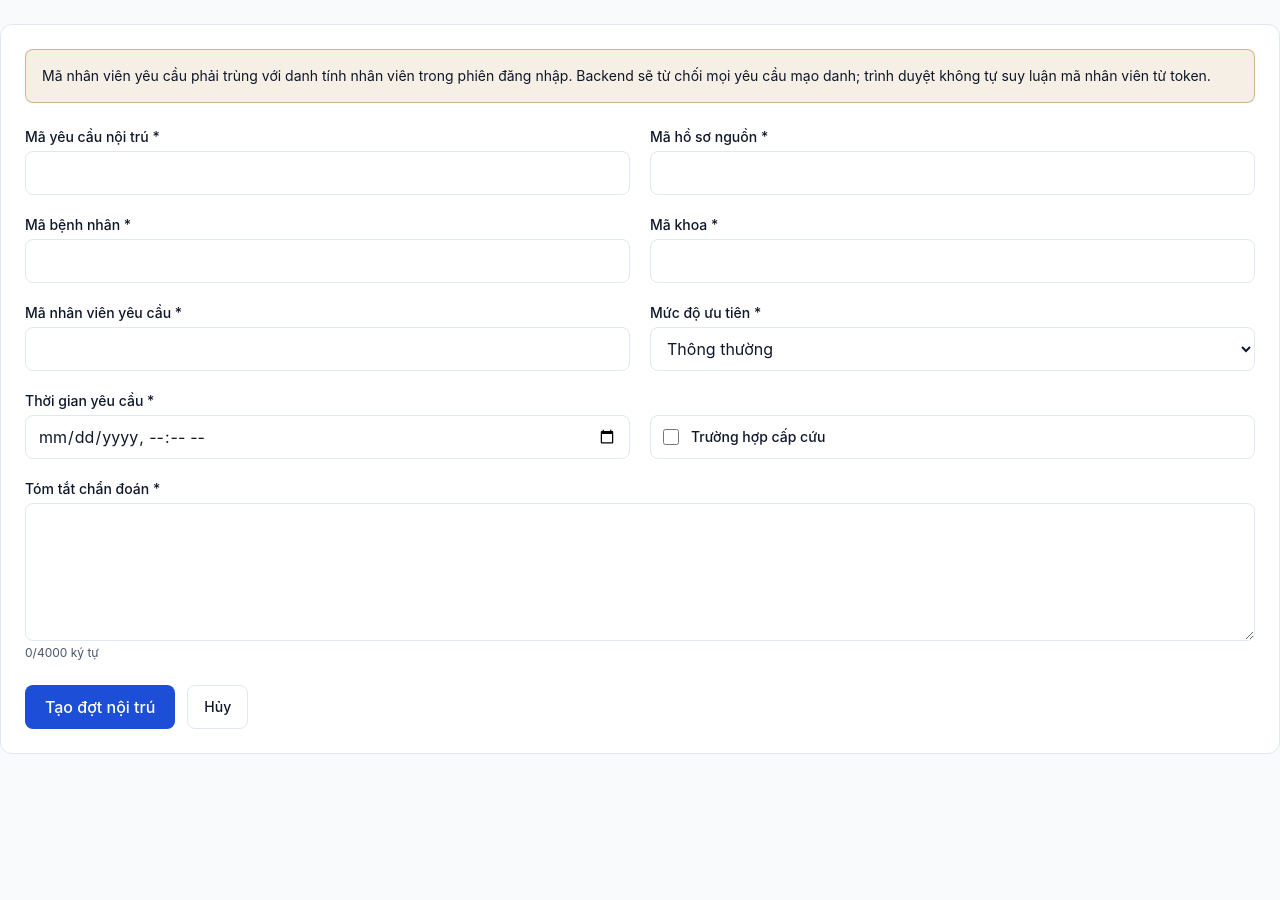
Test: CreateAdmissionForm › does not submit malformed identifiers
Step 1. Type "bad-id" into the field labelled "Mã yêu cầu nội trú *" → coordinates (328, 173), box [25,151,630,195]
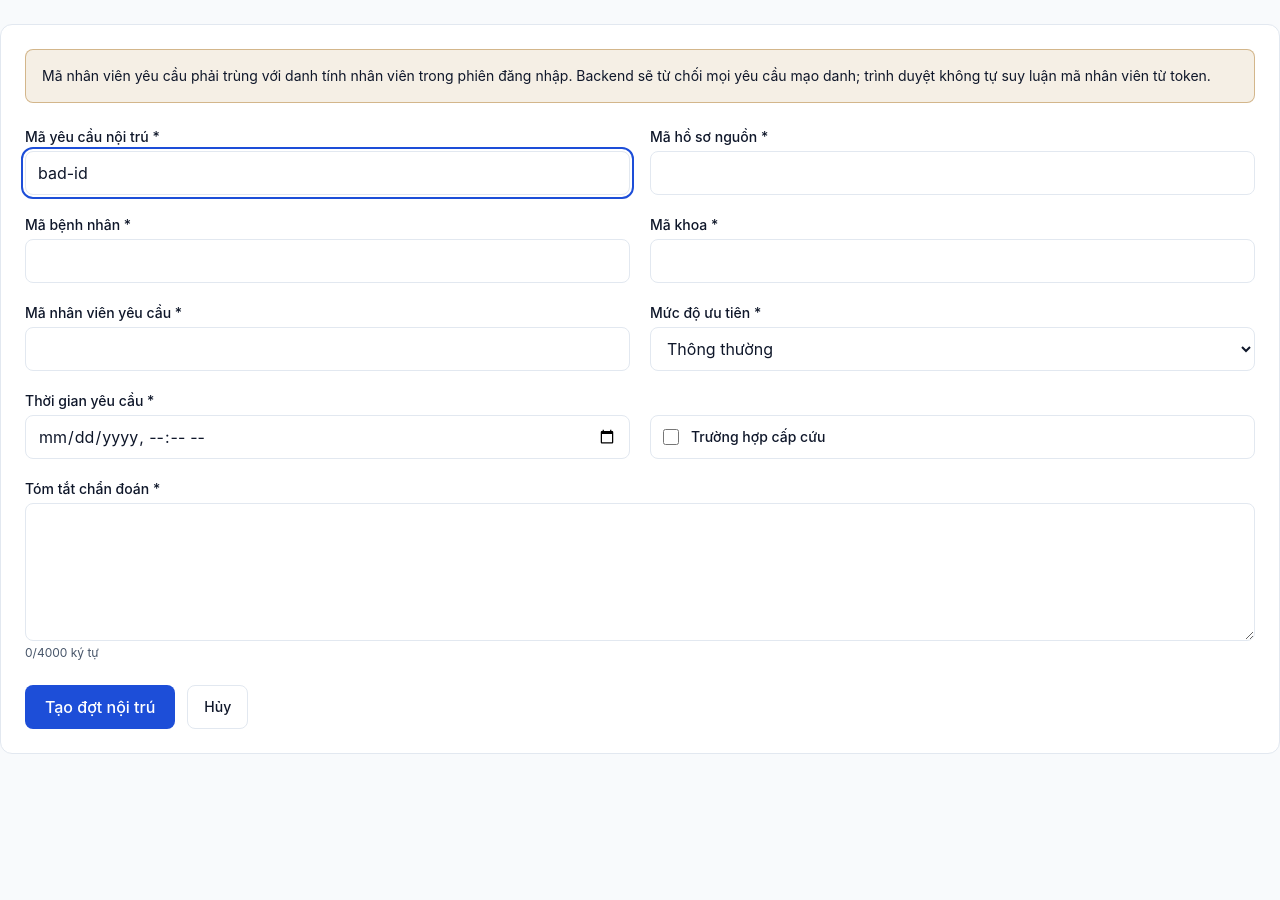
Step 2. Click the button "Tạo đợt nội trú" → coordinates (100, 707), box [25,685,175,729]
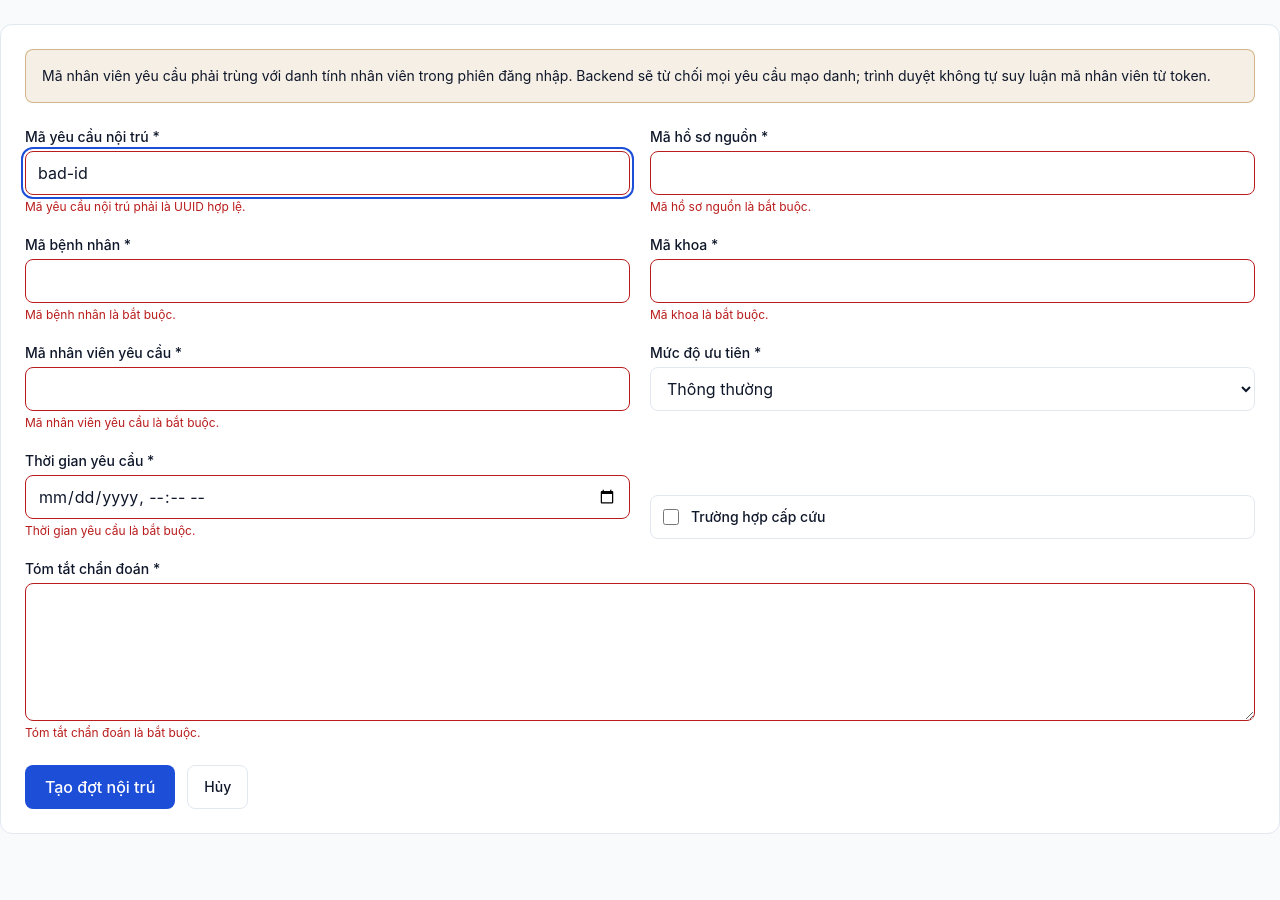
Now the text "Mã yêu cầu nội trú phải là UUID hợp lệ." is shown, box [25,199,246,214]
